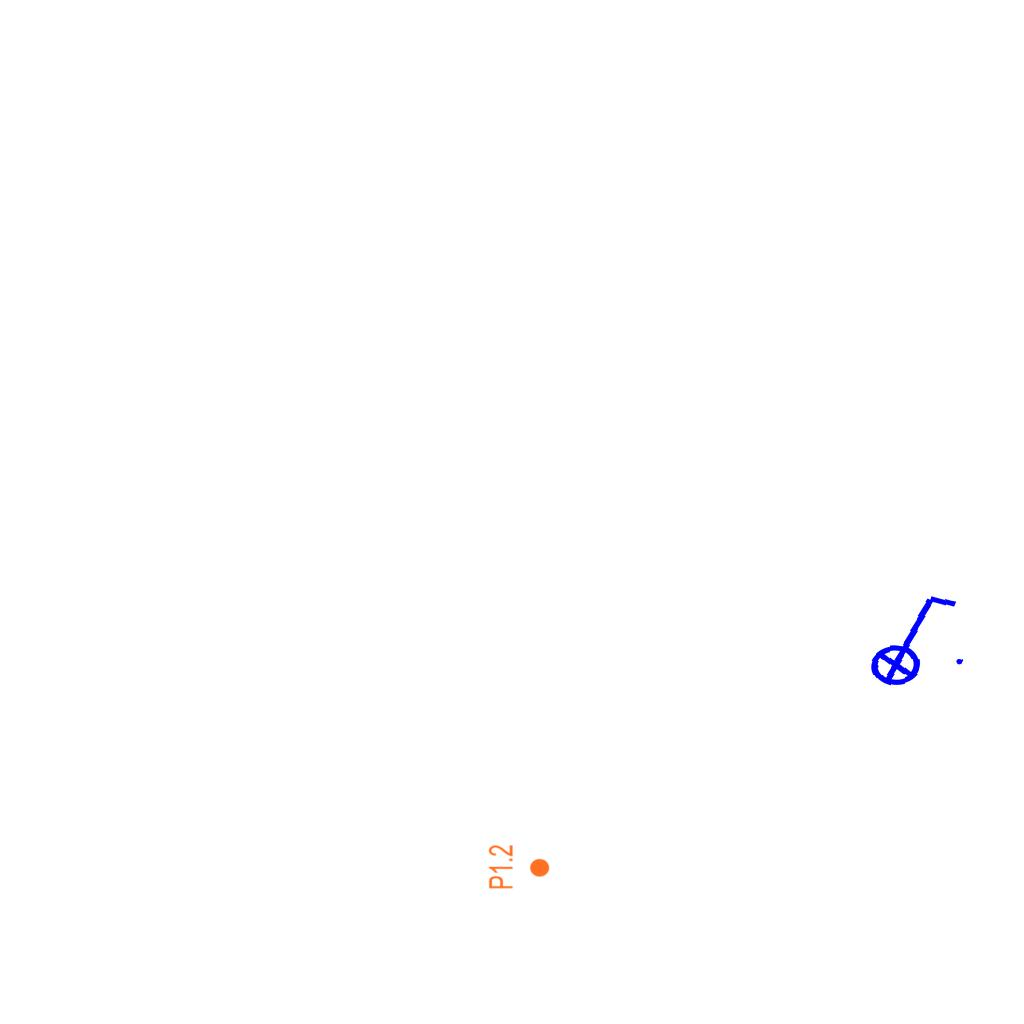Ausschalter_beleuchtet: (851, 586, 971, 690)
Downlight_LED_Einbauleuchten_Flur: (487, 844, 551, 890)
